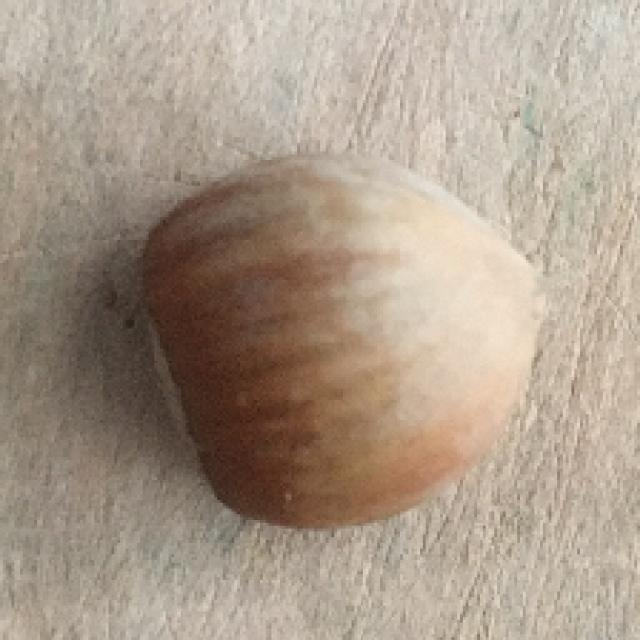qualityHazelnut: (135, 153, 542, 526)
